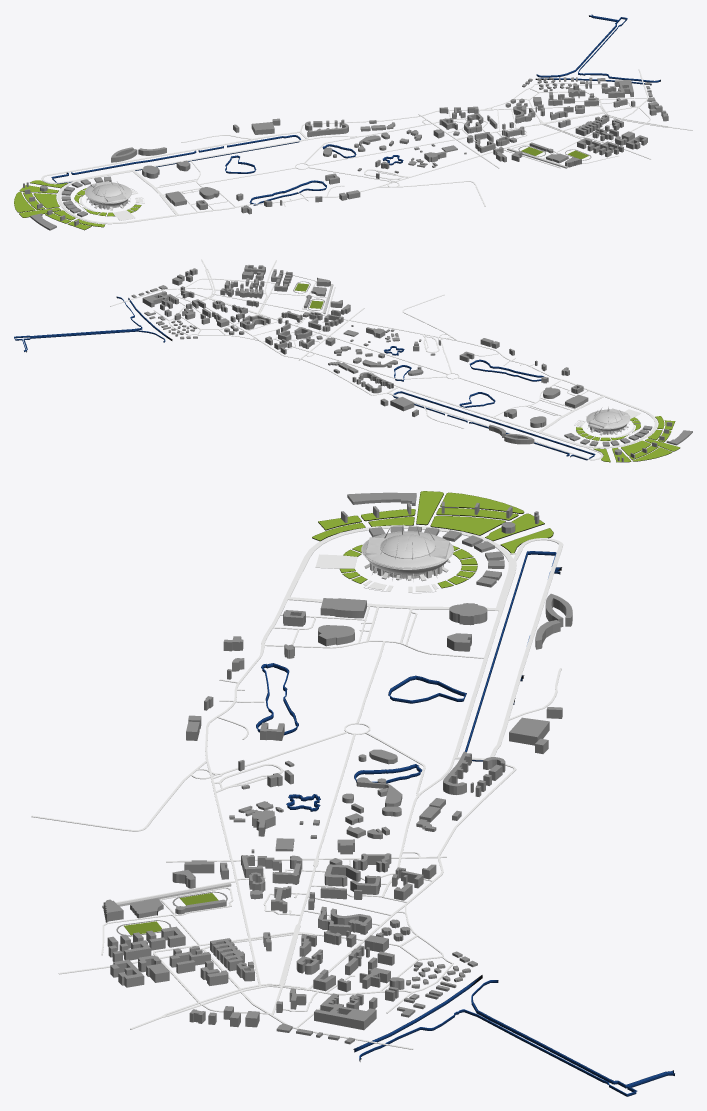
The model's file is krest_342631_6664090_36N.FBX.
3 views of the same model, one above another, from view 1: azimuth 30°, elevation 25°; view 2: azimuth 150°, elevation 25°; view 3: azimuth 270°, elevation 25° (orthographic). The views are drawn at different scales.
Parts seen in each view (by area): view 1: krestovskii_buildings, krestovskii_roads, krestovskii_lakes, krestovskii_grass, main; view 2: krestovskii_buildings, krestovskii_roads, krestovskii_lakes, krestovskii_grass, main; view 3: krestovskii_buildings, krestovskii_roads, krestovskii_lakes, krestovskii_grass, main, krest_new_details, выдвижное поле.
Boxes of the visible parts, x1,y1,x2,y2 form: krestovskii_buildings: (23, 77, 668, 230); krestovskii_roads: (41, 69, 692, 224); krestovskii_lakes: (51, 14, 660, 205); krestovskii_grass: (14, 180, 105, 230); main: (85, 181, 131, 208); krestovskii_buildings: (131, 265, 692, 461); krestovskii_roads: (110, 259, 657, 460); krestovskii_lakes: (14, 296, 595, 460); krestovskii_grass: (594, 416, 680, 462); main: (586, 408, 630, 433); krestovskii_buildings: (102, 492, 572, 1044); krestovskii_roads: (31, 525, 562, 1049); krestovskii_lakes: (256, 551, 674, 1096); krestovskii_grass: (312, 491, 553, 553); main: (361, 531, 453, 578); krest_new_details: (339, 545, 477, 588); выдвижное поле: (315, 554, 438, 593).
Bounding box in the file's own units: 4345 × 134 × 1971.
